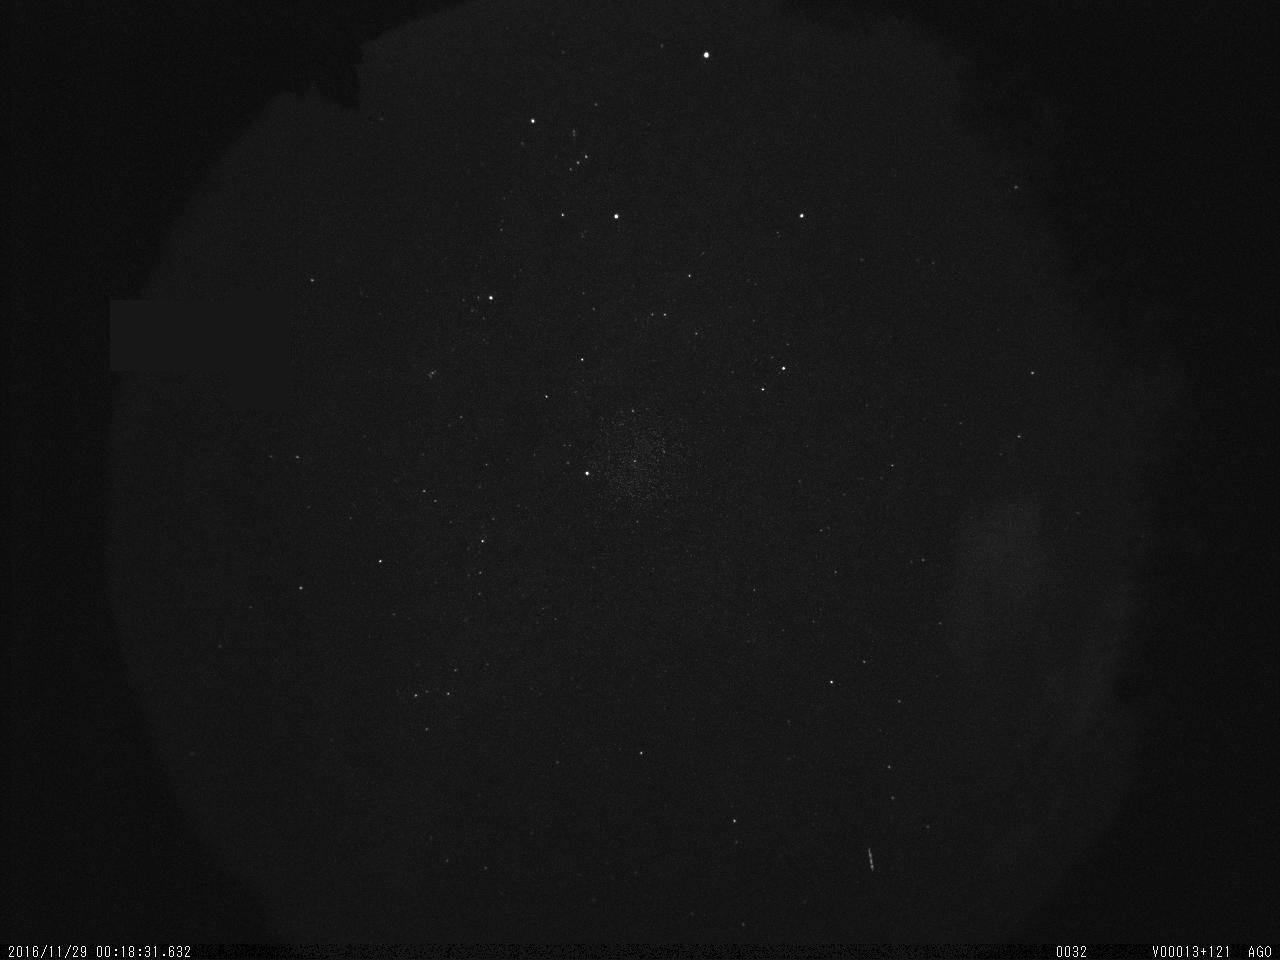Meteor: (865, 843, 878, 876)
